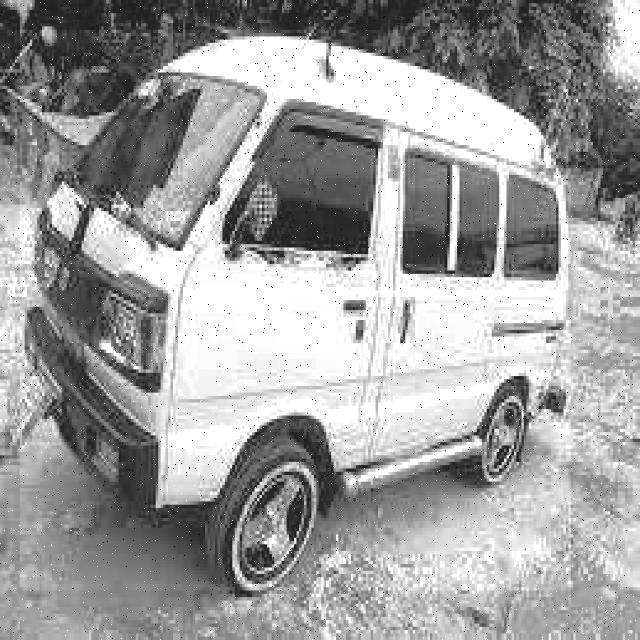LCV: (17, 30, 571, 594)
